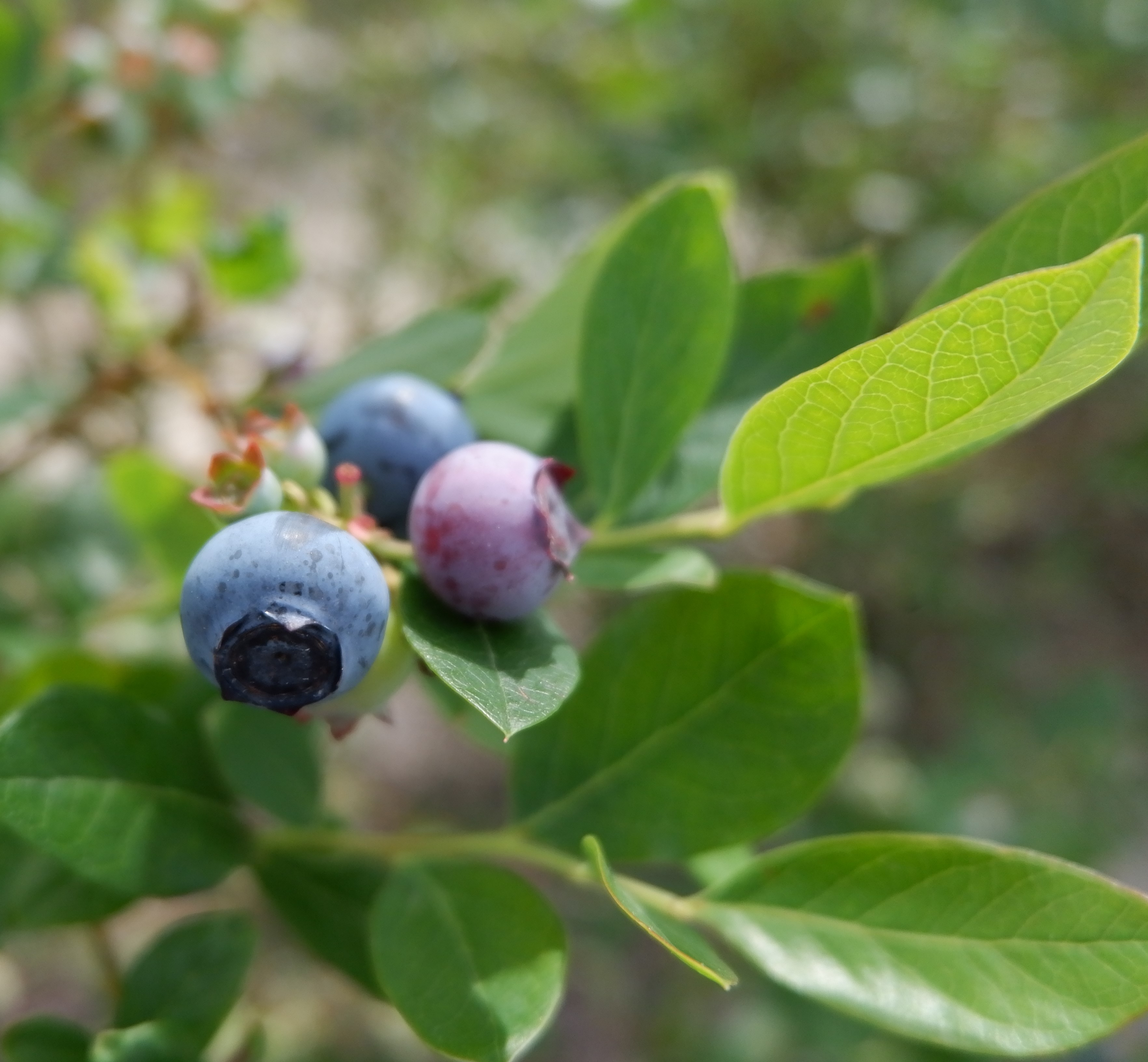Immature: (411, 447, 580, 617), (235, 407, 324, 489), (197, 450, 282, 525)
Mature: (183, 517, 380, 711), (321, 376, 472, 539)
